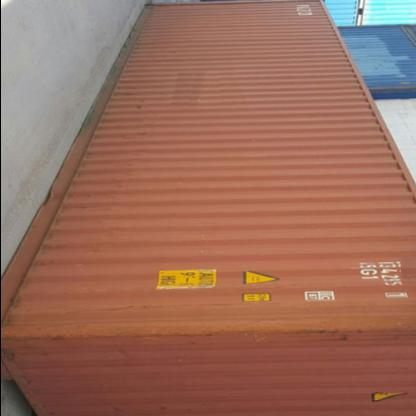Damage: (9, 300, 414, 344)
